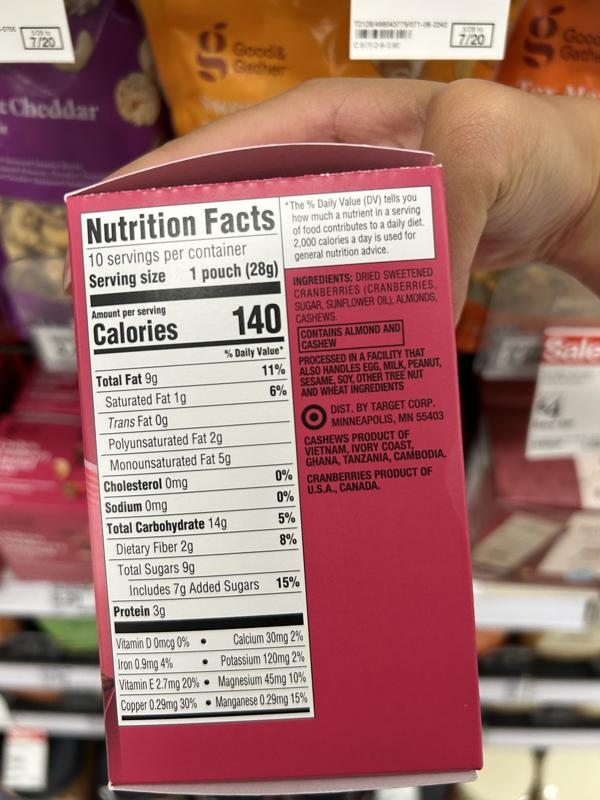ingredients: (291, 266, 439, 325)
